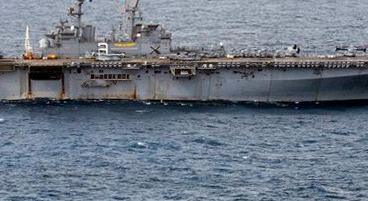rust: (108, 92, 142, 101), (25, 86, 37, 102), (60, 89, 67, 100)
